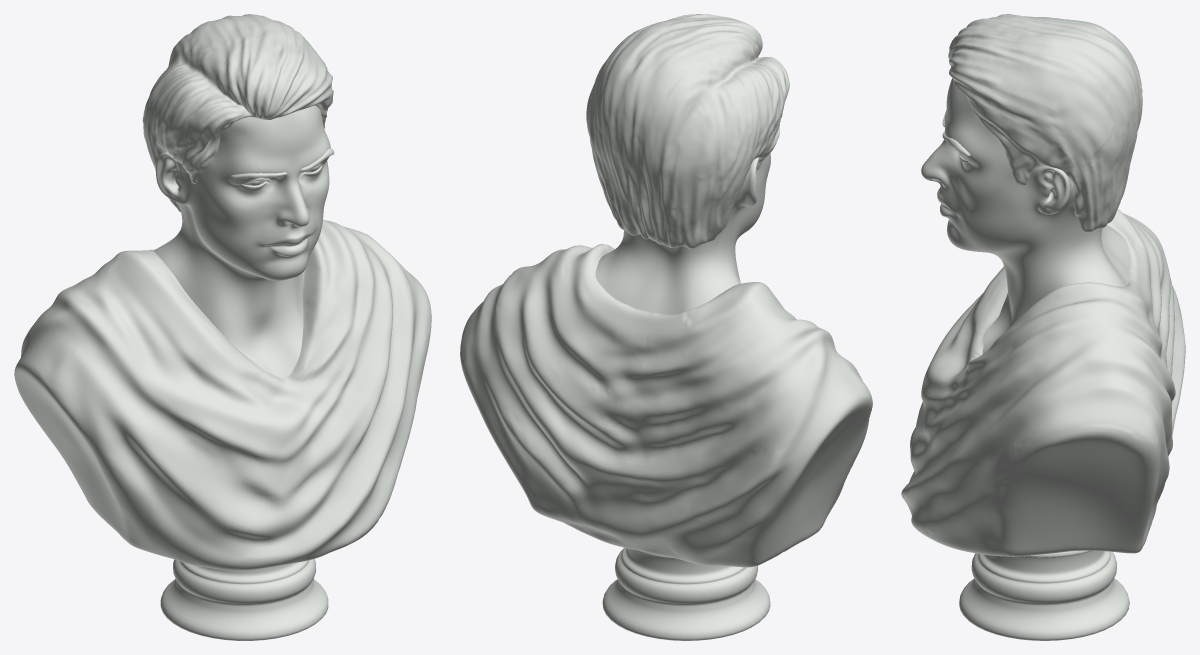
Rendered from 2_head.fbx.
3 views of the same model, side by side, from view 1: azimuth 30°, elevation 25°; view 2: azimuth 150°, elevation 25°; view 3: azimuth 270°, elevation 25° (orthographic).
Visible parts, largest first — view 1: node_id5; view 2: node_id5; view 3: node_id5.
Part boxes in pixels (x1,y1,x2,y2): node_id5: (14,14,431,640); node_id5: (460,14,872,640); node_id5: (901,14,1185,640).
Size of the model in its own units: 0.3546 by 0.512 by 0.2262.
1 material, 1 textured.
